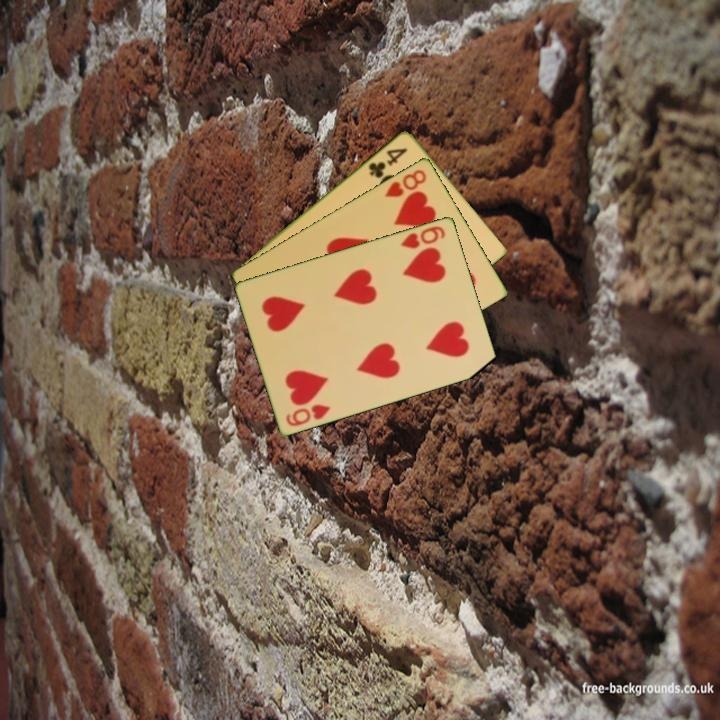4c: (365, 144, 410, 181)
6h: (397, 222, 448, 251), (282, 400, 333, 429)
8h: (381, 165, 430, 200)
